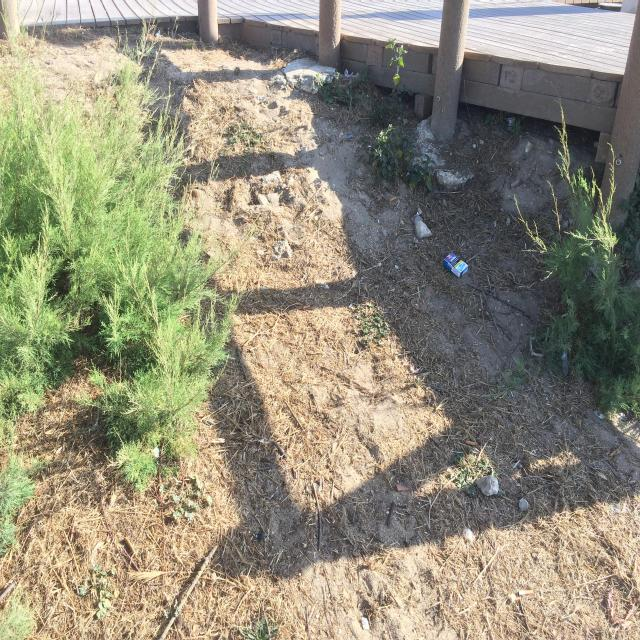litter: (440, 248, 470, 278), (415, 208, 432, 239)
